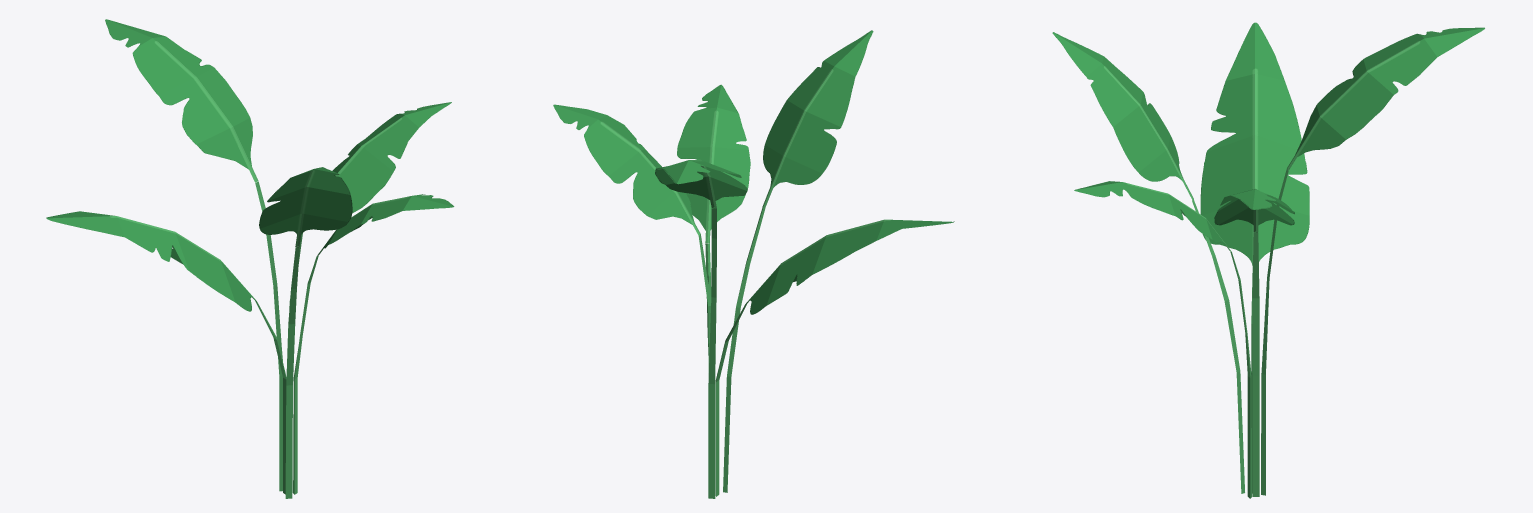
File: PlantOneVariantTwo.fbx
3 renders of one model, left to right at view 1: azimuth 30°, elevation 25°; view 2: azimuth 150°, elevation 25°; view 3: azimuth 270°, elevation 25°, orthographic. The views are drawn at different scales.
Visible parts, largest first — view 1: Circle.001; view 2: Circle.001; view 3: Circle.001.
Boxes of the visible parts, x1=… form: Circle.001: x1=46, y1=19, x2=454, y2=498; Circle.001: x1=553, y1=30, x2=954, y2=498; Circle.001: x1=1052, y1=22, x2=1484, y2=498.
Bounding box in the file's own units: 3.07 × 2.88 × 3.02.
